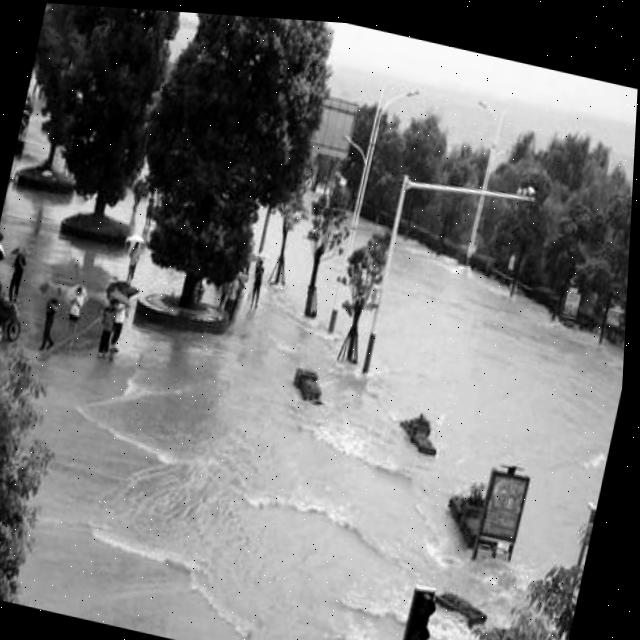civilian: (54, 275, 100, 352), (32, 273, 69, 347), (241, 256, 281, 321), (106, 285, 139, 361), (92, 289, 125, 364), (0, 242, 40, 303), (113, 238, 155, 293)
